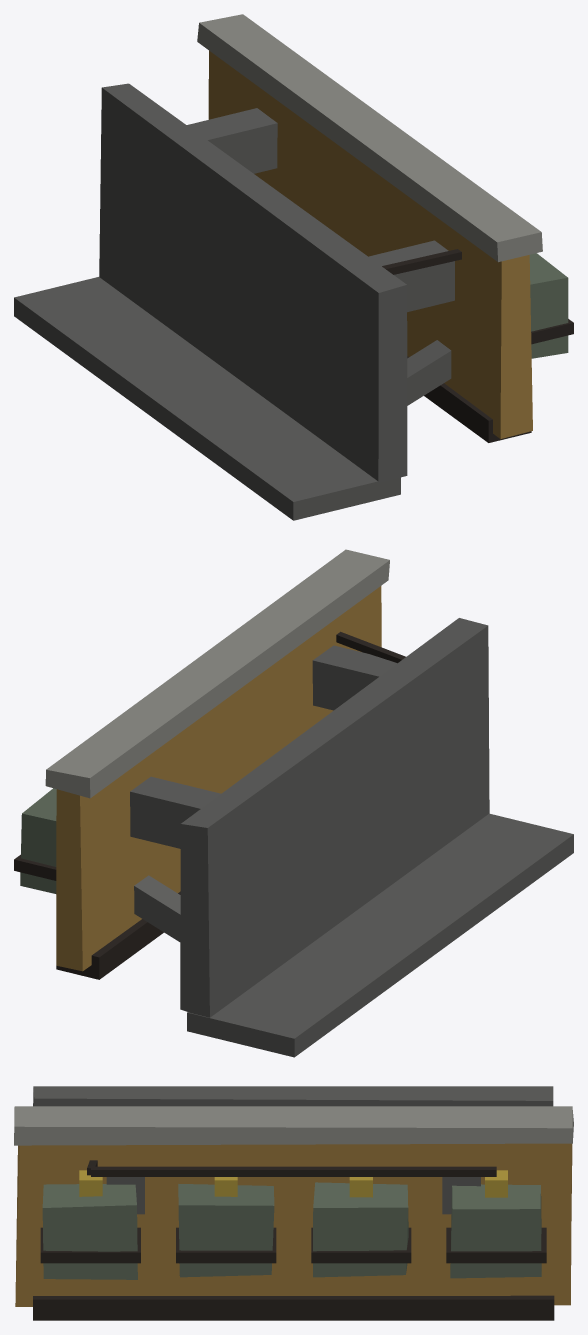
Rendered from arm_claymore_ram.glb.
3 renders of one model, top to bottom at view 1: azimuth 30°, elevation 25°; view 2: azimuth 150°, elevation 25°; view 3: azimuth 270°, elevation 25°, orthographic. The views are drawn at different scales.
Visible parts, largest first — view 1: arm_claymore_ram; view 2: arm_claymore_ram; view 3: arm_claymore_ram.
Boxes of the visible parts, bbox=[...] form: arm_claymore_ram: bbox=[14, 14, 573, 520]; arm_claymore_ram: bbox=[14, 549, 573, 1057]; arm_claymore_ram: bbox=[14, 1086, 573, 1320].
Size of the model in its own units: 0.795 by 0.6375 by 1.45.
